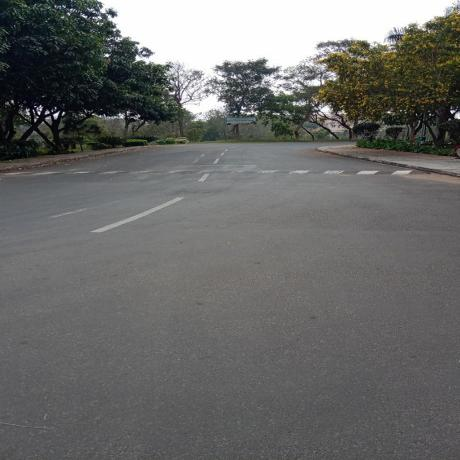Speed Bump: (0, 170, 431, 176)
